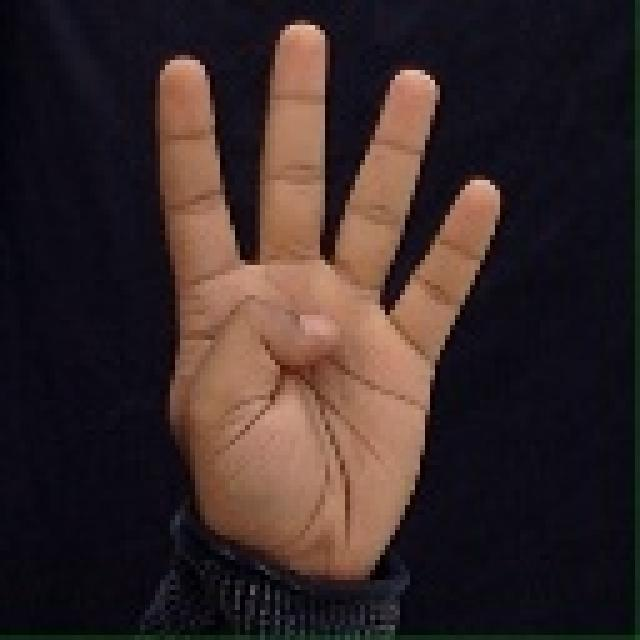Thanks: (142, 3, 524, 626)
